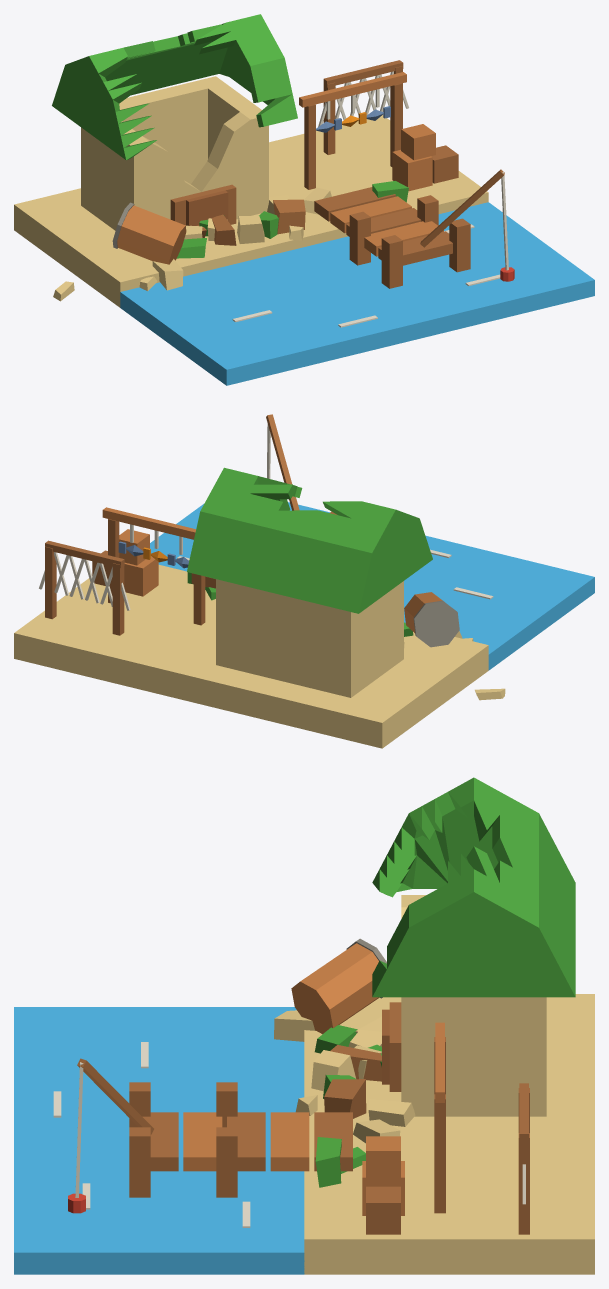
The model's file is fishery_t1_v3_dmg1.glb.
3 views of the same model, one above another, from view 1: azimuth 30°, elevation 25°; view 2: azimuth 150°, elevation 25°; view 3: azimuth 270°, elevation 25° (orthographic). The views are drawn at different scales.
Visible parts, largest first — view 1: fishery_t1_v3_dmg1; view 2: fishery_t1_v3_dmg1; view 3: fishery_t1_v3_dmg1.
Boxes of the visible parts, box(x1,y1,x2,y2) form: fishery_t1_v3_dmg1: box(14, 14, 594, 385); fishery_t1_v3_dmg1: box(14, 414, 594, 748); fishery_t1_v3_dmg1: box(14, 777, 594, 1274).
Bounding box in the file's own units: 0.6669 × 0.31 × 0.6.
Materials: 1 (1 with a texture image).
